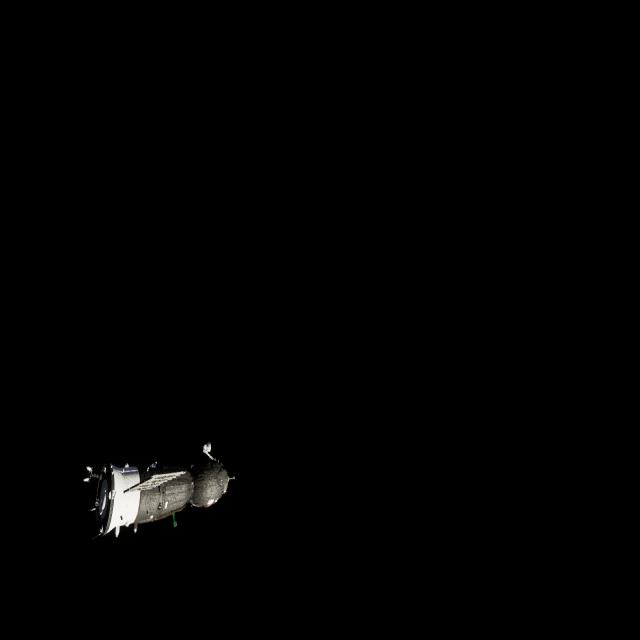Satellites revolving around earth: (81, 439, 235, 543)
